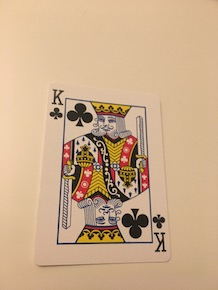KingOfClubs: (29, 79, 176, 274)
